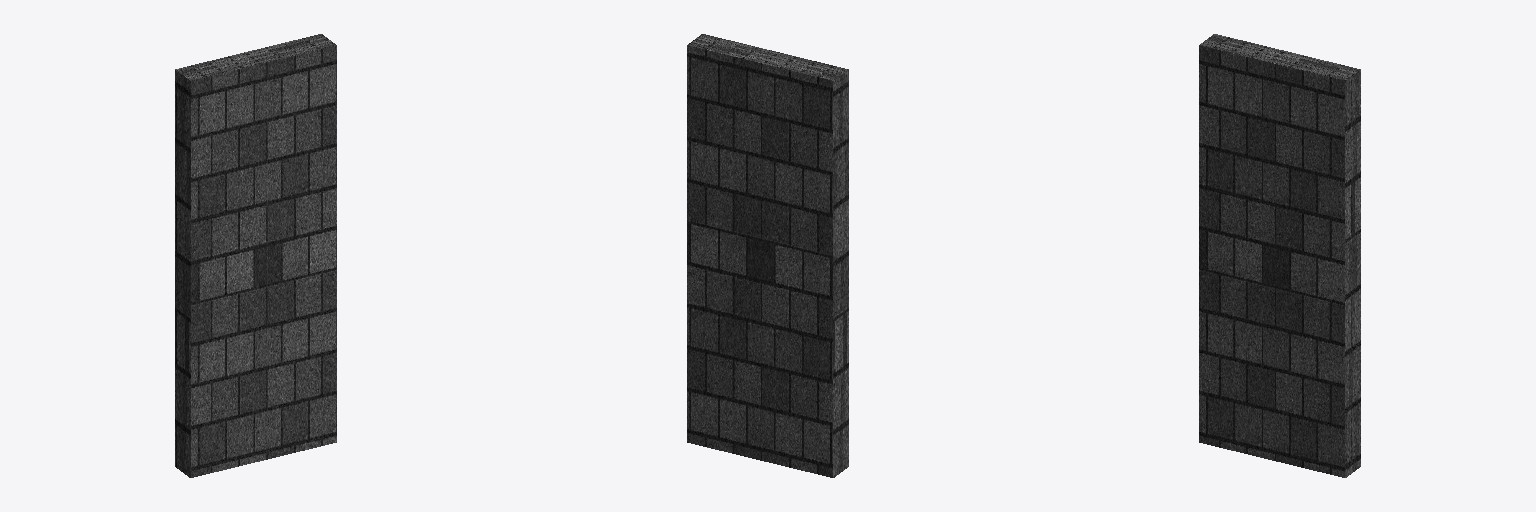
The picture shows the model from 3 angles: view 1: azimuth 30°, elevation 25°; view 2: azimuth 150°, elevation 25°; view 3: azimuth 330°, elevation 25°; orthographic projection.
Visible parts, largest first — view 1: 立方体.001; view 2: 立方体.001; view 3: 立方体.001.
Part boxes in pixels (x1,y1,x2,y2): 立方体.001: (175, 34, 336, 477); 立方体.001: (687, 34, 848, 477); 立方体.001: (1199, 34, 1360, 477).
Size of the model in its own units: 5.4 by 14 by 1.
Materials: 1 (1 with a texture image).